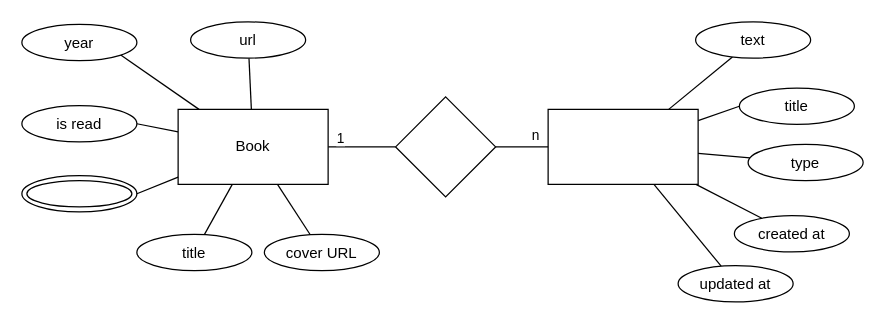
Some shapes in this 885 by 324 pixel diagram are drawn without their labels. Each missing label, with the box of its shape:
authors: (21, 174, 137, 212)
contains: (394, 96, 496, 197)
Summary: (547, 108, 698, 184)
